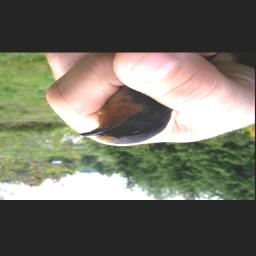Swallow: (75, 85, 175, 146)
